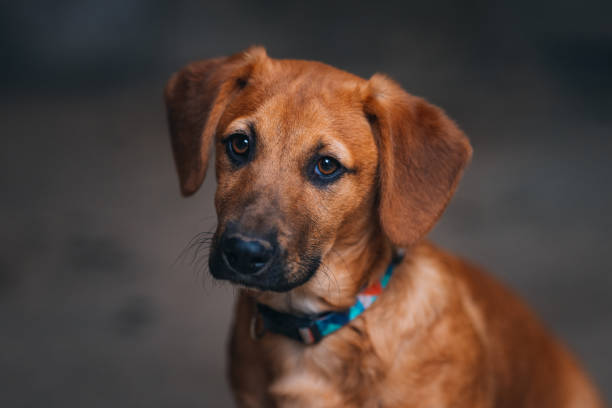dog: (111, 29, 596, 406)
